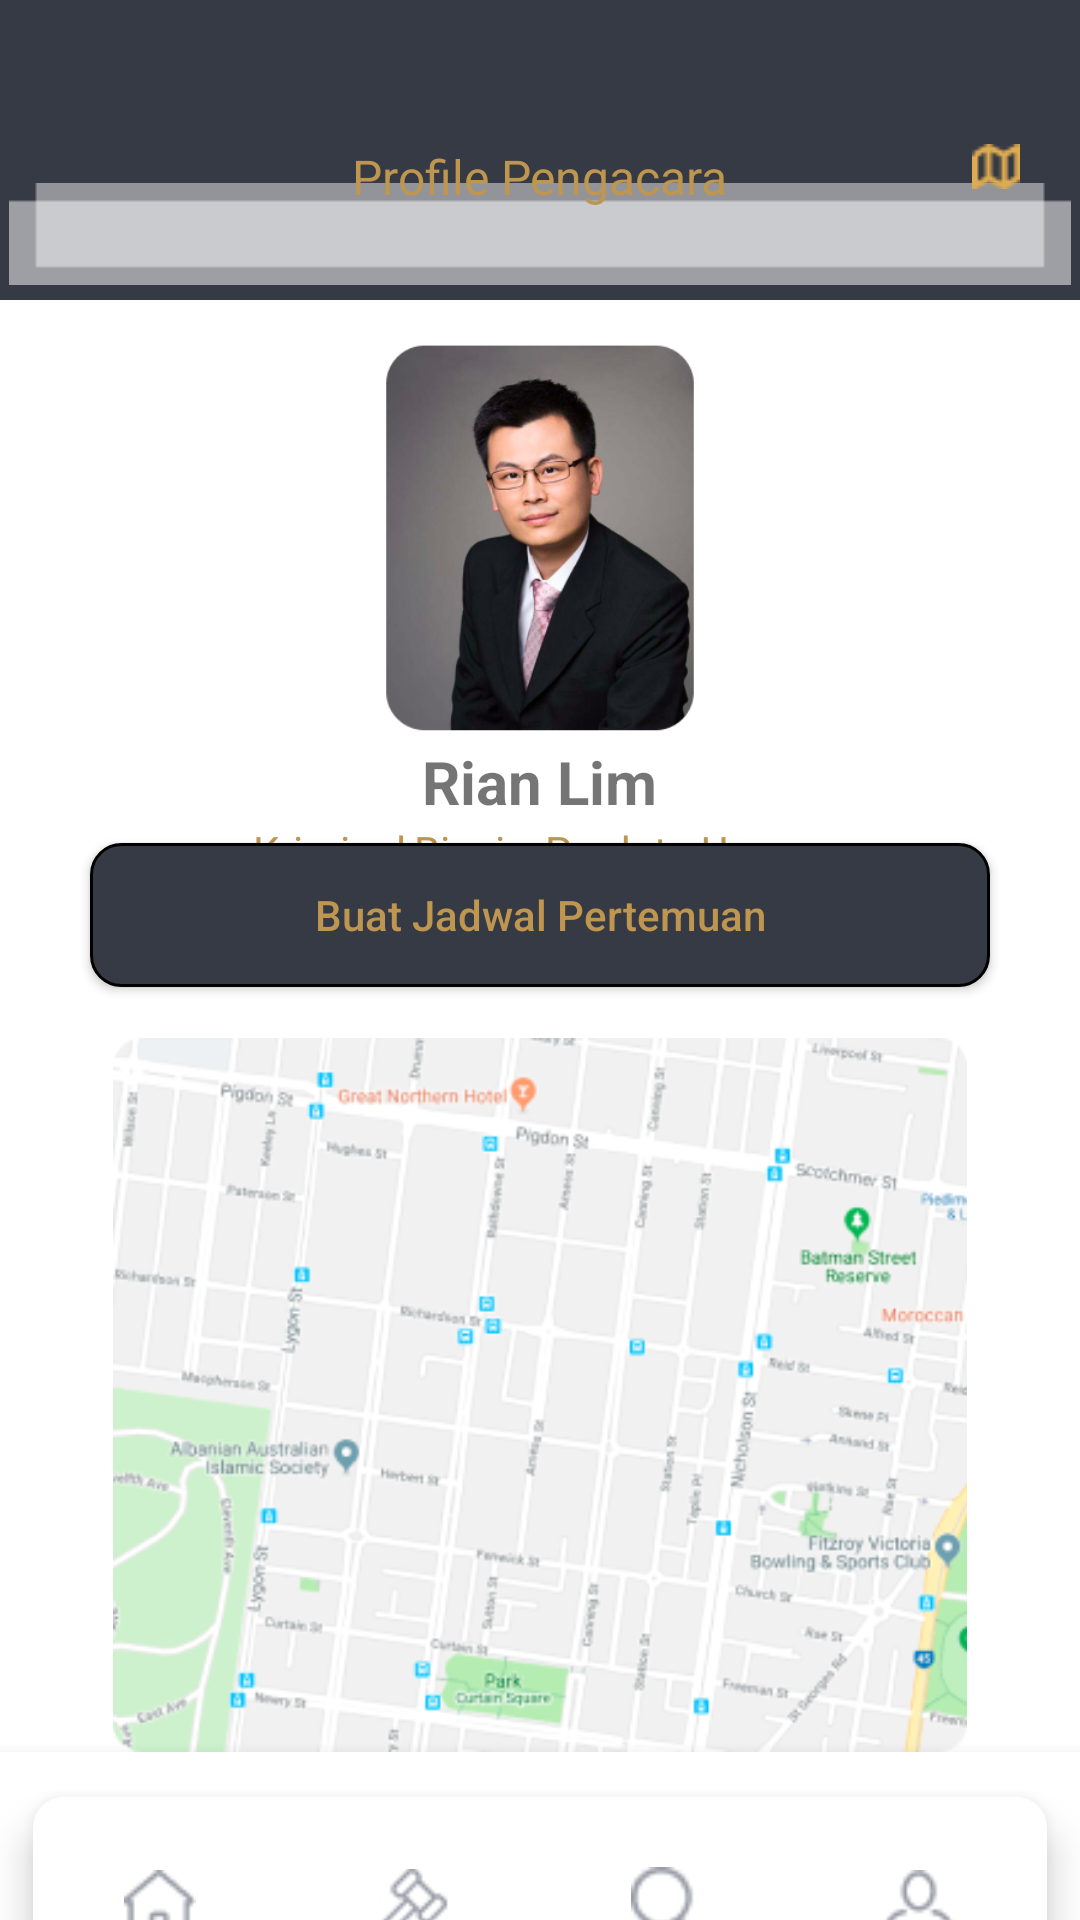

Icons on this 1080 x 1920 Android screen, each with its box as (x1, y1, x2, y2):
mapicon: (972, 144, 1020, 189)
